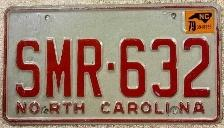2: (183, 36, 212, 98)
3: (150, 37, 180, 98)
6: (118, 35, 148, 98)
M: (45, 37, 73, 98)
R: (75, 37, 106, 99)
S: (13, 38, 42, 98)
